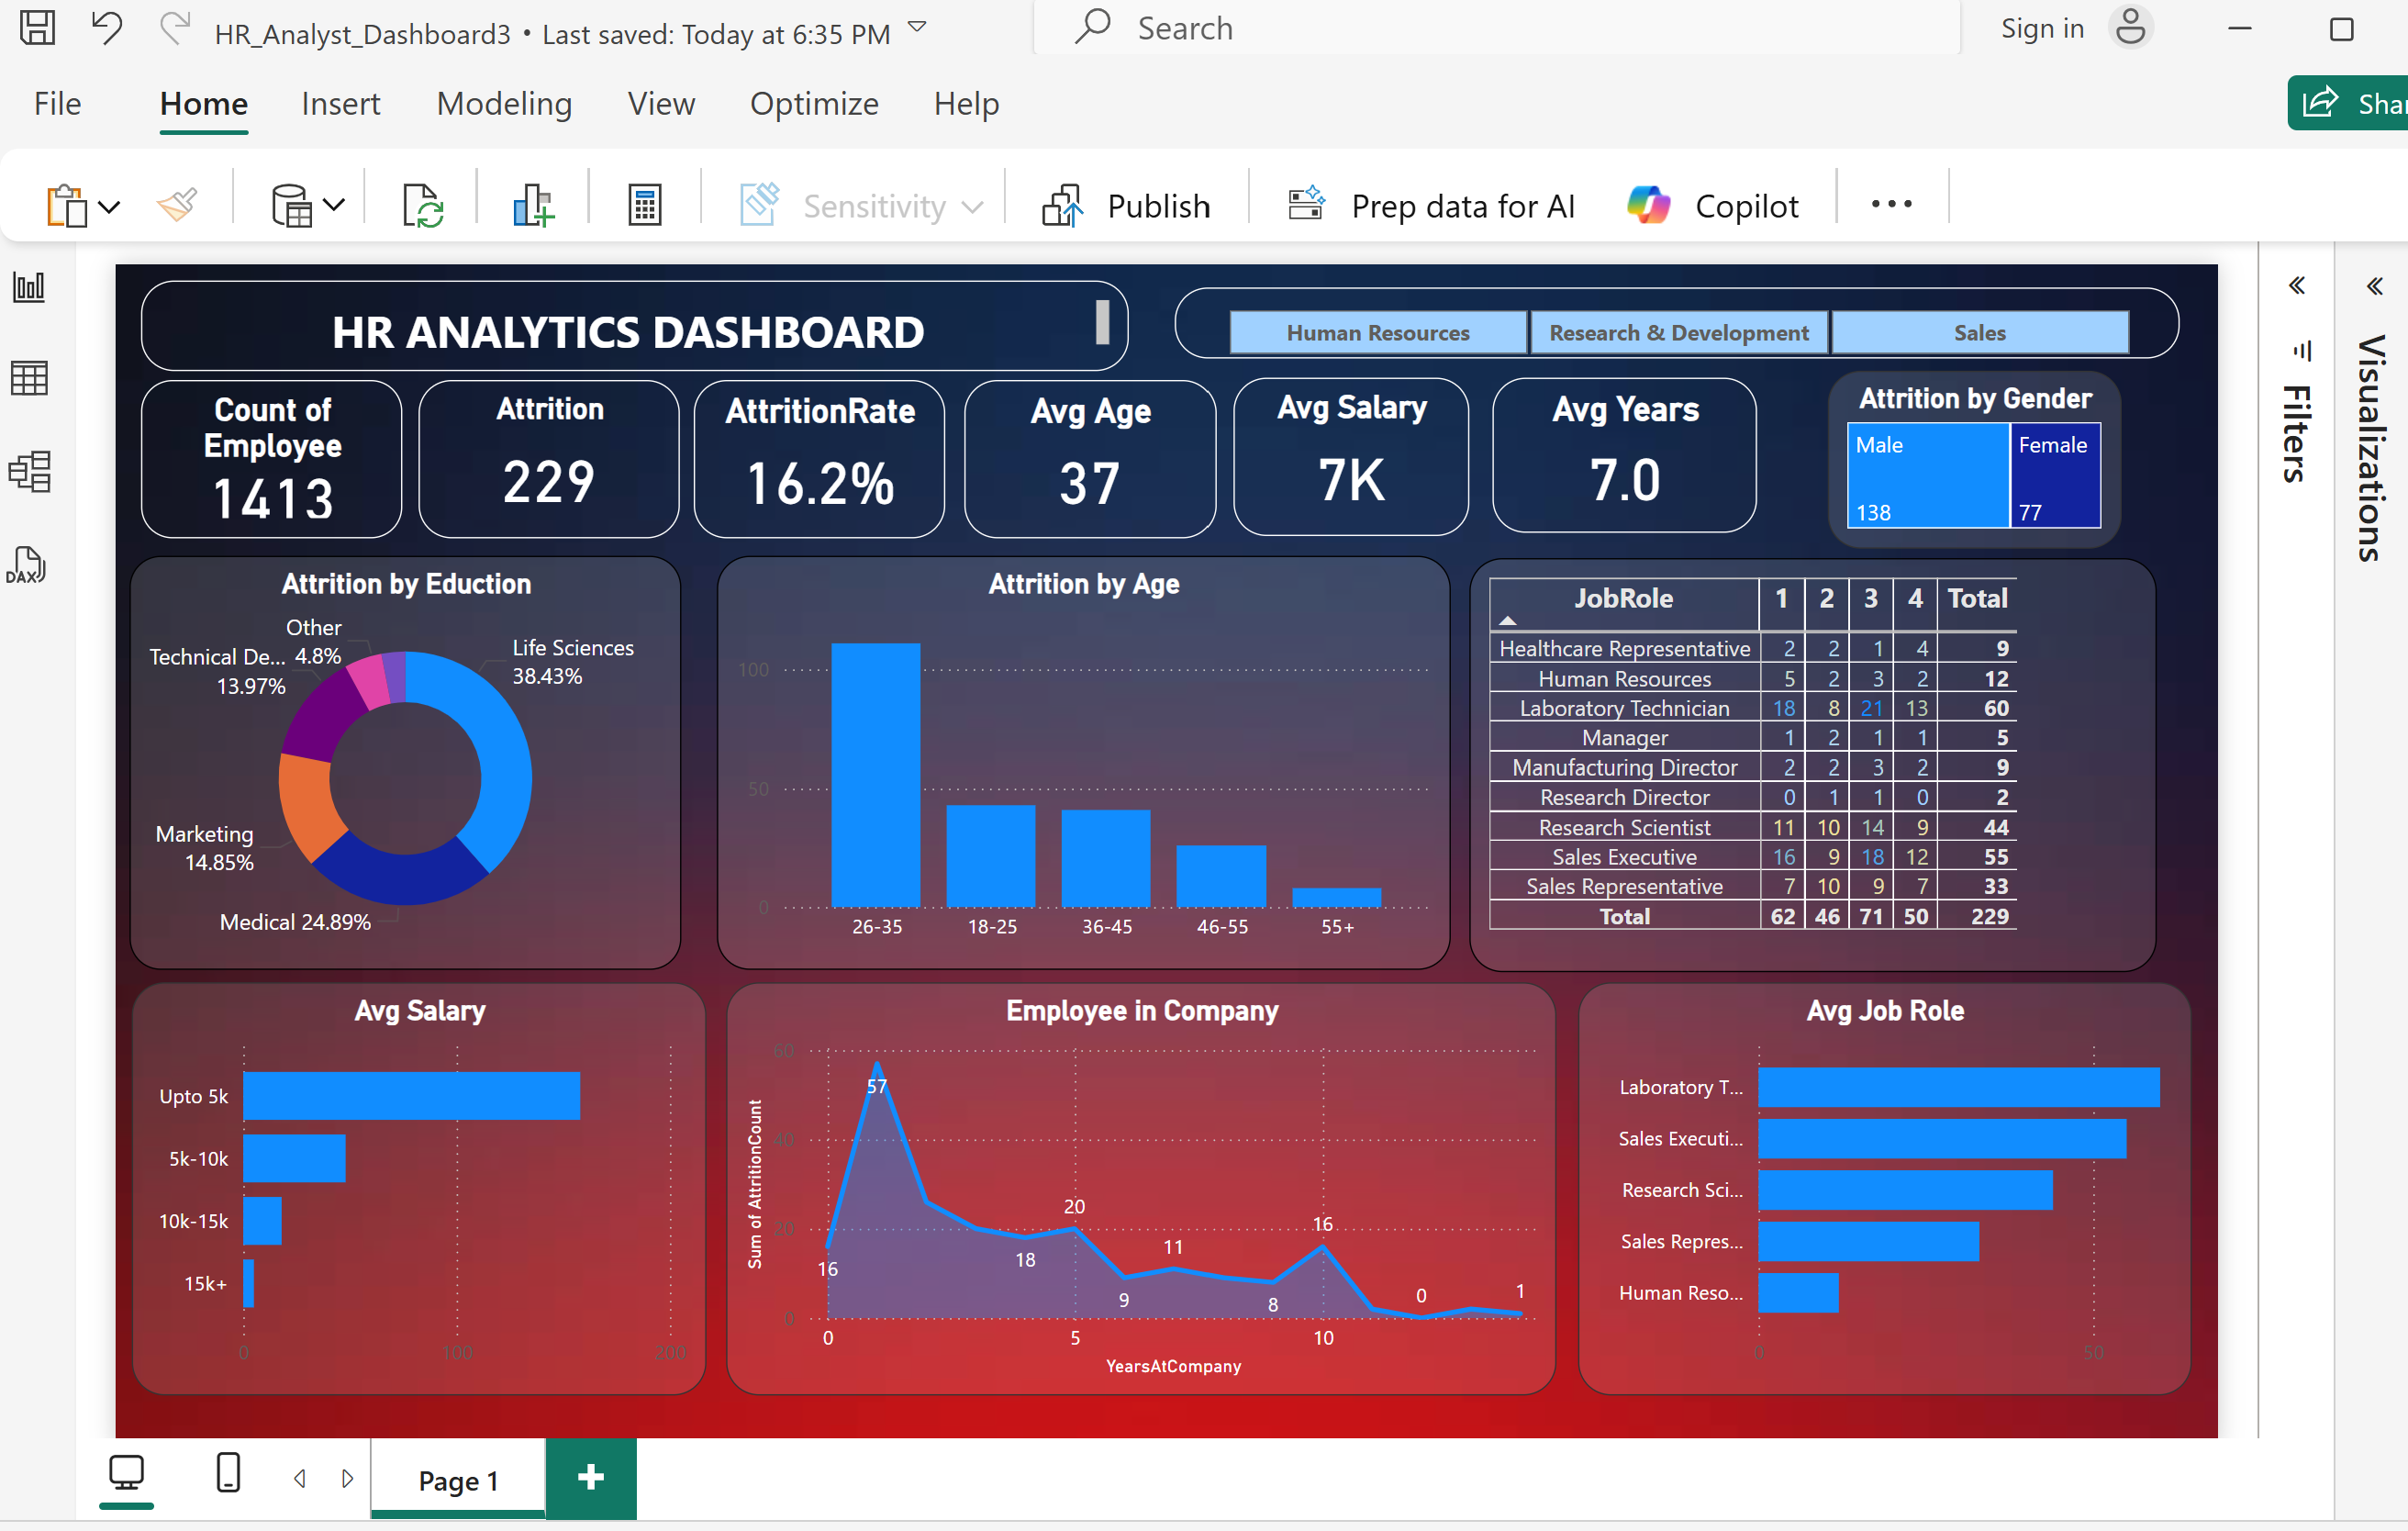

This screenshot's page, from the dashboard's own definition file:
{"tool":"powerbi","page":{"name":"Page 1","canvas":[1280,720],"ordinal":0},"visuals":[{"type":"card","title":"Count of Employee","fields":{"Values":["CountNonNull(HR_Analytics.EmpID)"]},"box":[15.7,70.7,159.3,96.3],"z":0},{"type":"card","title":"Attrition","fields":{"Values":["Sum(HR_Analytics.AttritionCount)"]},"box":[184.8,70.7,159.3,96.4],"z":1000},{"type":"card","title":"Avg Age","fields":{"Values":["Avg(HR_Analytics.Age)"]},"box":[517.2,70.7,153.4,96.3],"z":2000},{"type":"card","title":"Avg Salary","fields":{"Values":["Avg(HR_Analytics.MonthlyIncome)"]},"box":[680.4,68.8,143.5,96.3],"z":3000},{"type":"card","title":"AttritionRate","fields":{"Values":["HR_Analytics.AttritionRate"]},"box":[352,70.7,153.4,96.3],"z":4000},{"type":"card","title":"Avg Years","fields":{"Values":["Avg(HR_Analytics.YearsAtCompany)"]},"box":[837.7,68.8,161.2,94.4],"z":5000},{"type":"donutChart","title":"Attrition by Eduction","fields":{"Category":["HR_Analytics.EducationField"],"Y":["Sum(HR_Analytics.AttritionCount)"]},"box":[7.9,177,336.2,251.7],"z":6000},{"type":"columnChart","title":"Attrition by Age","fields":{"Category":["HR_Analytics.AgeGroup"],"Y":["Sum(HR_Analytics.AttritionCount)"]},"box":[365.7,177,446.4,251.7],"z":7000},{"type":"pivotTable","fields":{"Rows":["HR_Analytics.JobRole"],"Columns":["HR_Analytics.JobSatisfaction"],"Values":["Sum(HR_Analytics.AttritionCount)"]},"box":[823.9,178.9,418.8,251.7],"z":8000},{"type":"barChart","title":"Avg Salary","fields":{"Category":["HR_Analytics.SalarySlab"],"Y":["Sum(HR_Analytics.AttritionCount)"]},"box":[9.8,436.5,350,251.7],"z":8001},{"type":"barChart","title":"Avg Job Role","fields":{"Y":["Sum(HR_Analytics.AttritionCount)"],"Category":["HR_Analytics.JobRole"]},"box":[890.8,436.5,373.6,251.7],"z":8002},{"type":"areaChart","title":"Employee in Company","fields":{"Category":["HR_Analytics.YearsAtCompany"],"Y":["Sum(HR_Analytics.AttritionCount)"]},"box":[371.6,436.5,505.4,251.7],"z":8003},{"type":"treemap","title":"Attrition by Gender","fields":{"Group":["HR_Analytics.Gender"],"Values":["Sum(HR_Analytics.AttritionCount)"]},"box":[1042.2,64.9,178.9,108.1],"z":8004},{"type":"slicer","fields":{"Values":["HR_Analytics.Department"]},"box":[645,13.8,611.5,43.3],"z":8005},{"type":"textbox","box":[15.7,9.8,601.7,55.1],"z":8006}]}

Visuals, with their boxes on the page's 1280x720 design canvas (x1, y1, x2, y2). These are canvas units, not pixel positions in the 2408x1531 screenshot, which may show the page scaled, cropped or inside an application window:
"Count of Employee" card: rect(16, 71, 175, 167)
"Attrition" card: rect(185, 71, 344, 167)
"Avg Age" card: rect(517, 71, 671, 167)
"Avg Salary" card: rect(680, 69, 824, 165)
"AttritionRate" card: rect(352, 71, 505, 167)
"Avg Years" card: rect(838, 69, 999, 163)
"Attrition by Eduction" donutChart: rect(8, 177, 344, 429)
"Attrition by Age" columnChart: rect(366, 177, 812, 429)
pivotTable - HR_Analytics.JobRole x HR_Analytics.JobSatisfaction: rect(824, 179, 1243, 431)
"Avg Salary" barChart: rect(10, 436, 360, 688)
"Avg Job Role" barChart: rect(891, 436, 1264, 688)
"Employee in Company" areaChart: rect(372, 436, 877, 688)
"Attrition by Gender" treemap: rect(1042, 65, 1221, 173)
slicer - HR_Analytics.Department: rect(645, 14, 1256, 57)
textbox: rect(16, 10, 617, 65)
